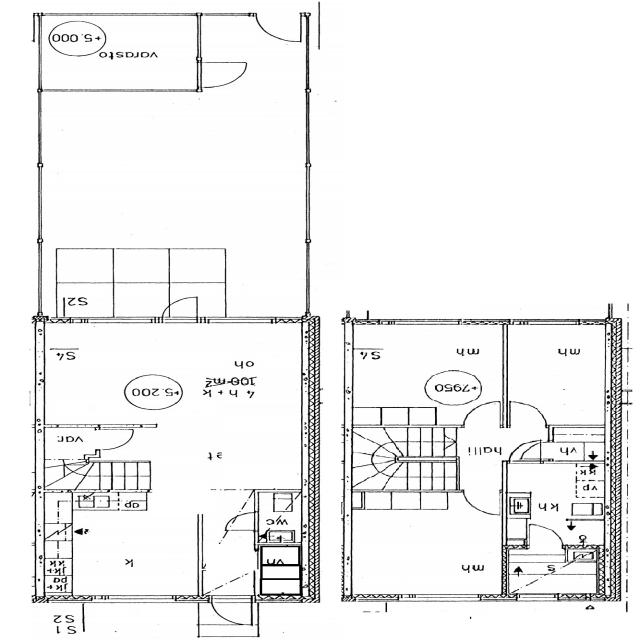door: (206, 594, 256, 628), (193, 59, 249, 89), (254, 12, 304, 44), (506, 398, 551, 428), (460, 399, 504, 429), (160, 294, 203, 324), (91, 425, 138, 452), (460, 489, 503, 516), (522, 522, 565, 548), (222, 512, 261, 532), (513, 440, 548, 462)
window: (401, 590, 483, 606), (206, 315, 277, 329), (107, 592, 175, 606), (511, 592, 561, 605)
zone: (41, 326, 304, 423), (35, 489, 255, 602), (343, 492, 502, 598), (344, 323, 507, 426), (46, 17, 204, 92), (502, 323, 614, 427), (503, 463, 608, 523), (503, 548, 602, 596), (256, 489, 304, 544), (258, 546, 304, 599), (545, 427, 608, 463), (35, 556, 71, 598), (564, 518, 608, 549)
